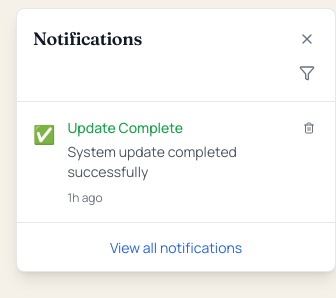
NotificationCenter Component › Filtering › shows empty state for unread filter when no unread notifications
Click the button named "Show unread only": coordinates (307, 73) [295, 61, 319, 85]
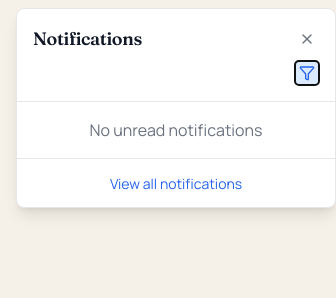
Result: the text "No unread notifications" is shown at [90, 119, 262, 141]
